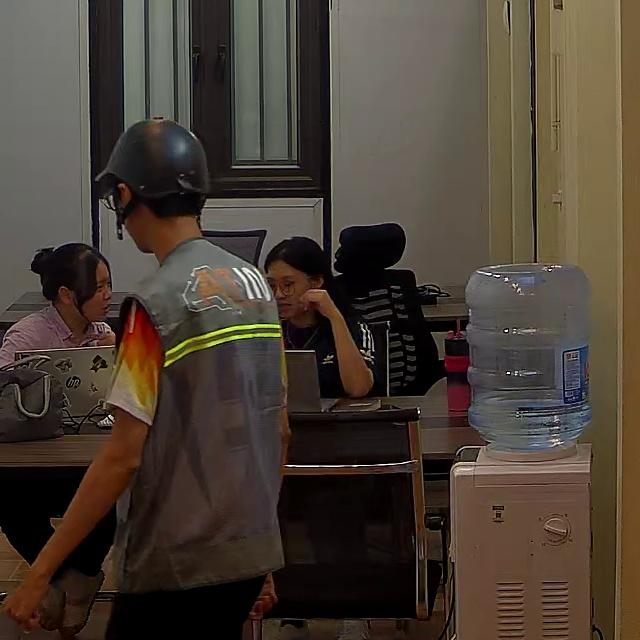helmet: (95, 118, 209, 236)
no_helmet: (31, 242, 109, 302), (268, 235, 326, 276)
vest: (107, 241, 291, 592)
